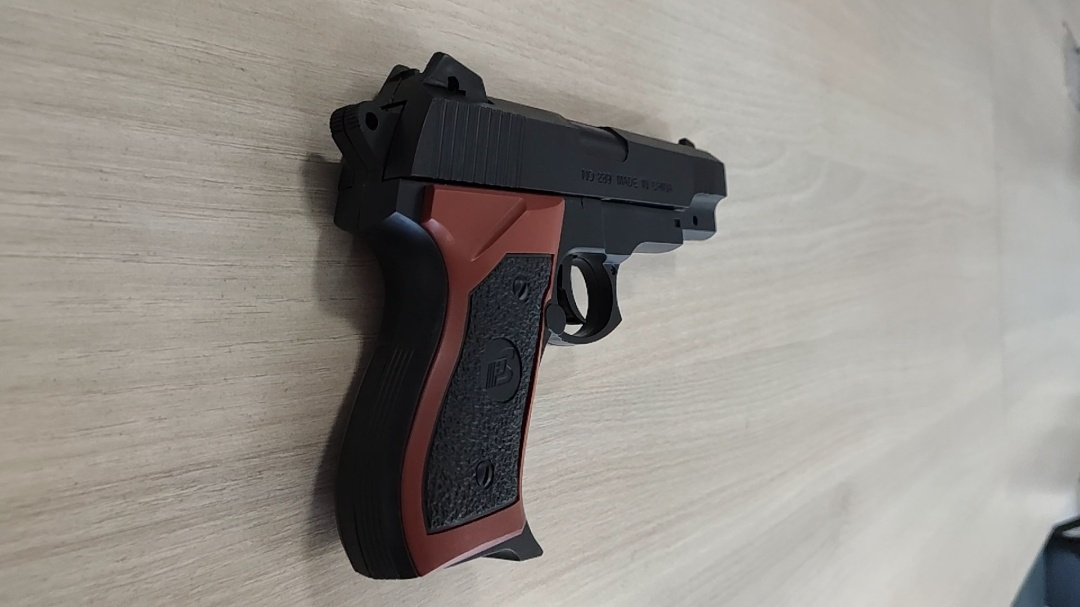gun: (329, 51, 733, 583)
